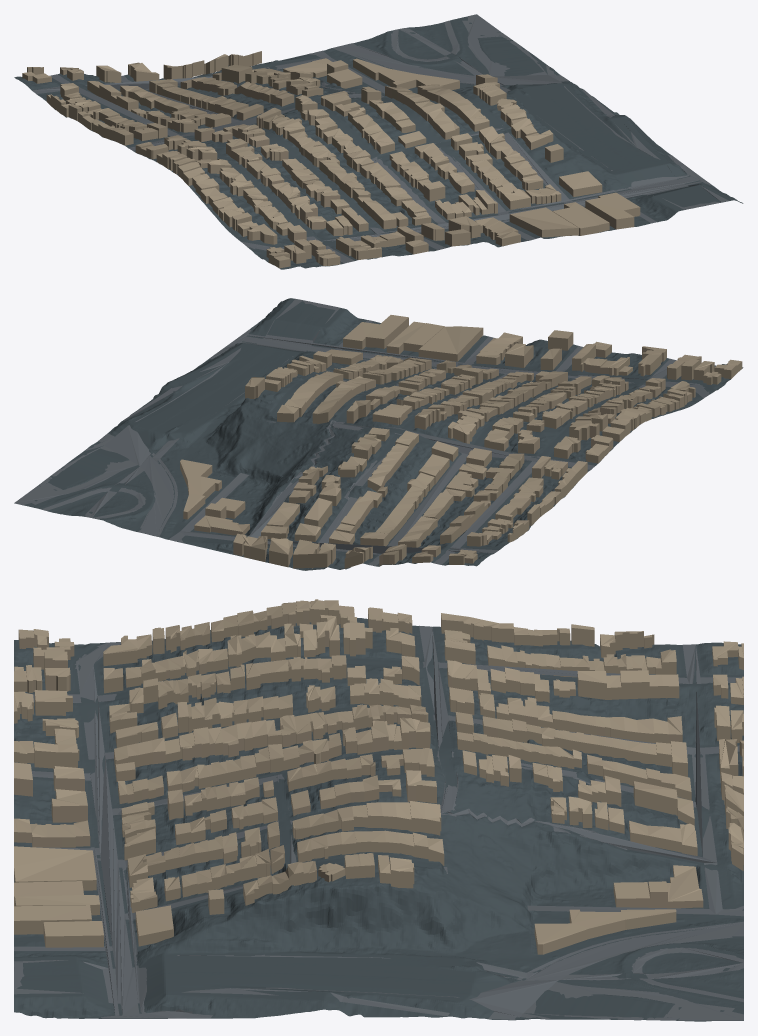
Rendered from epsg26910-1437-10877.lod0.glb.
3 renders of one model, top to bottom at view 1: azimuth 30°, elevation 25°; view 2: azimuth 150°, elevation 25°; view 3: azimuth 270°, elevation 25°, orthographic. The views are drawn at different scales.
Parts seen in each view (by area): view 1: epsg26910-1437-10877-lod0; view 2: epsg26910-1437-10877-lod0; view 3: epsg26910-1437-10877-lod0.
Part boxes in pixels (box(x1,y1,x2,y2)): epsg26910-1437-10877-lod0: box(14, 14, 743, 269); epsg26910-1437-10877-lod0: box(14, 298, 743, 570); epsg26910-1437-10877-lod0: box(14, 599, 743, 1021).
Bounding box in the file's own units: 384 × 66.34 × 384.
